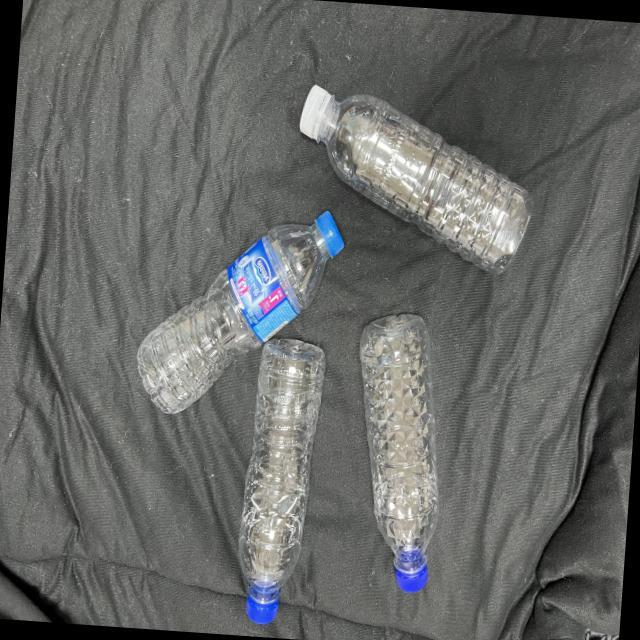good: (119, 184, 366, 430), (289, 59, 545, 295), (341, 299, 458, 607), (223, 332, 335, 630)
